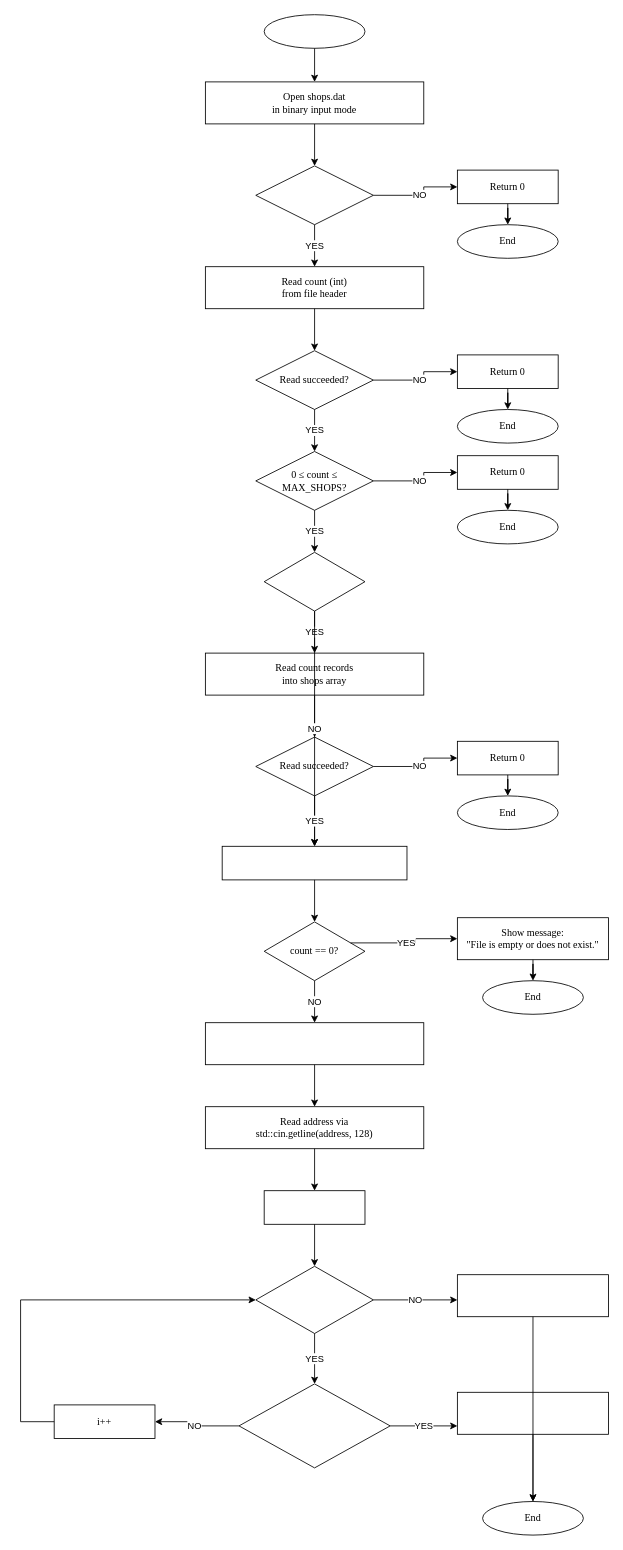
Image size: 623x1550. Some labels were removed from this diagram. Here are the shapes that lost their labels. From the top down, the box of each, then its label:
(263, 14, 365, 48): Begin
(255, 165, 373, 225): File opened successfully?
(263, 551, 365, 611): count > 0?
(221, 845, 407, 880): count = readShops(shops)
(205, 1022, 424, 1065): Print "Enter address: " prompt to console
(263, 1190, 365, 1224): i = 0
(255, 1265, 373, 1334): i < count?
(457, 1274, 609, 1317): Show message: "Shop with this address was not found."
(238, 1383, 390, 1468): std::strcmp( shops[i].address, address) == 0?
(457, 1391, 609, 1434): Print telephone number: shops[i].phone
